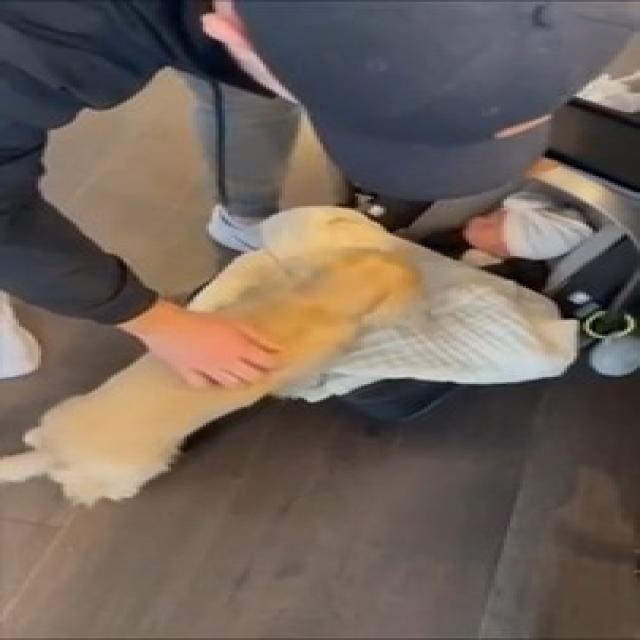dogs: (0, 230, 429, 529)
